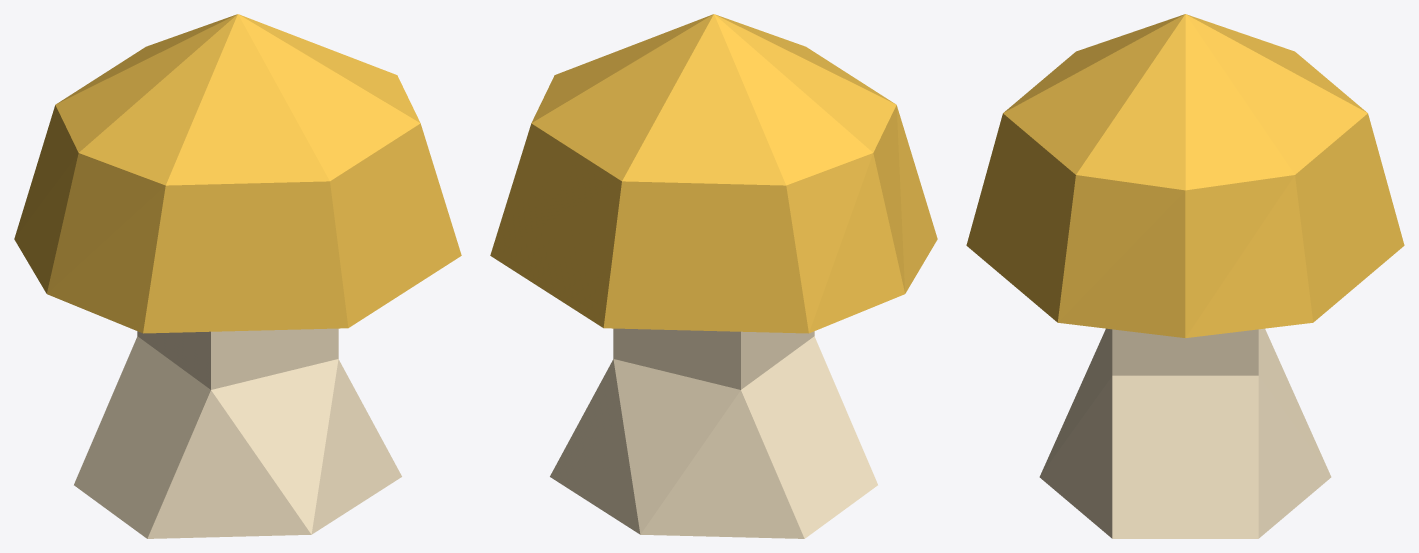
File: mushroom.obj
The picture shows the model from 3 angles, left to right: view 1: azimuth 30°, elevation 25°; view 2: azimuth 150°, elevation 25°; view 3: azimuth 270°, elevation 25°; orthographic projection.
Parts seen in each view (by area): view 1: mushroom_back; view 2: mushroom_back; view 3: mushroom_back.
Part boxes in pixels (x1,y1,x2,y2): mushroom_back: (14,14,461,538); mushroom_back: (490,14,937,538); mushroom_back: (966,14,1404,538).
Size of the model in its own units: 0.48 by 0.56 by 0.48.
